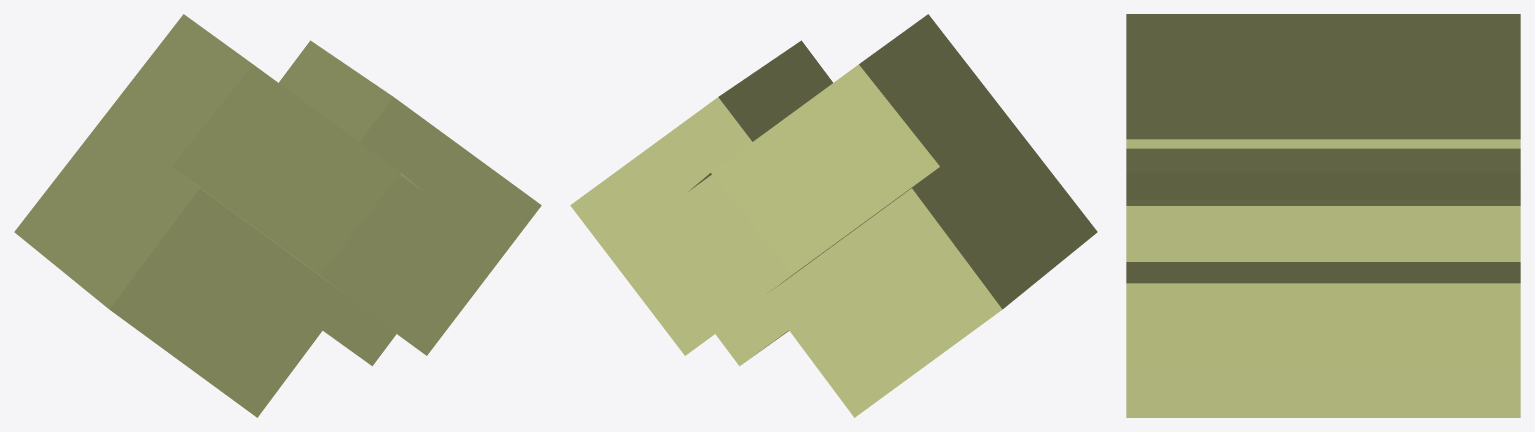
3 renders of one model, left to right at view 1: azimuth 30°, elevation 25°; view 2: azimuth 150°, elevation 25°; view 3: azimuth 270°, elevation 25°, orthographic. The views are drawn at different scales.
Visible parts, largest first — view 1: 0_0_1_2_0_0_0_0_3_2_2; view 2: 0_0_1_2_0_0_0_0_3_2_2; view 3: 0_0_1_2_0_0_0_0_3_2_2.
Boxes of the visible parts, bbox=[...] form: 0_0_1_2_0_0_0_0_3_2_2: bbox=[14, 14, 541, 417]; 0_0_1_2_0_0_0_0_3_2_2: bbox=[570, 14, 1097, 417]; 0_0_1_2_0_0_0_0_3_2_2: bbox=[1126, 14, 1520, 417].
Bounding box in the file's own units: 13.32 × 9.3 × 9.
